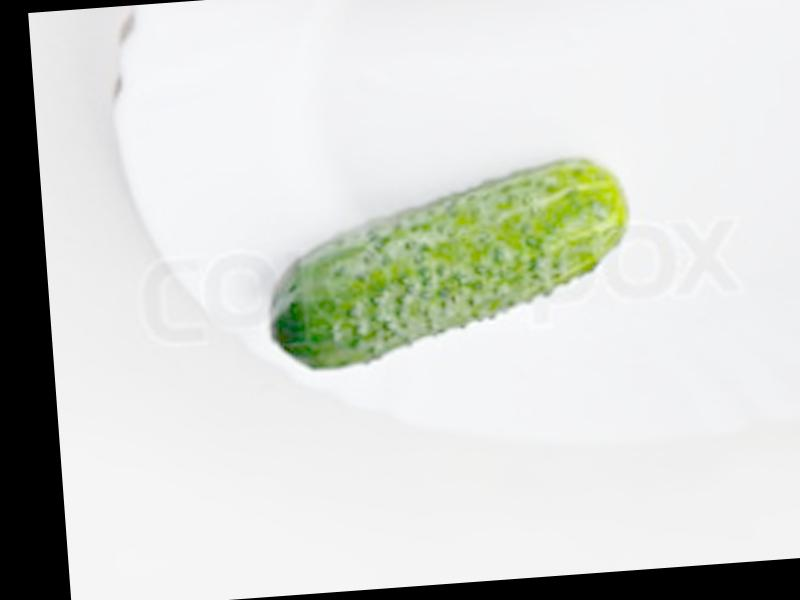Cucumber: (263, 154, 636, 373)
